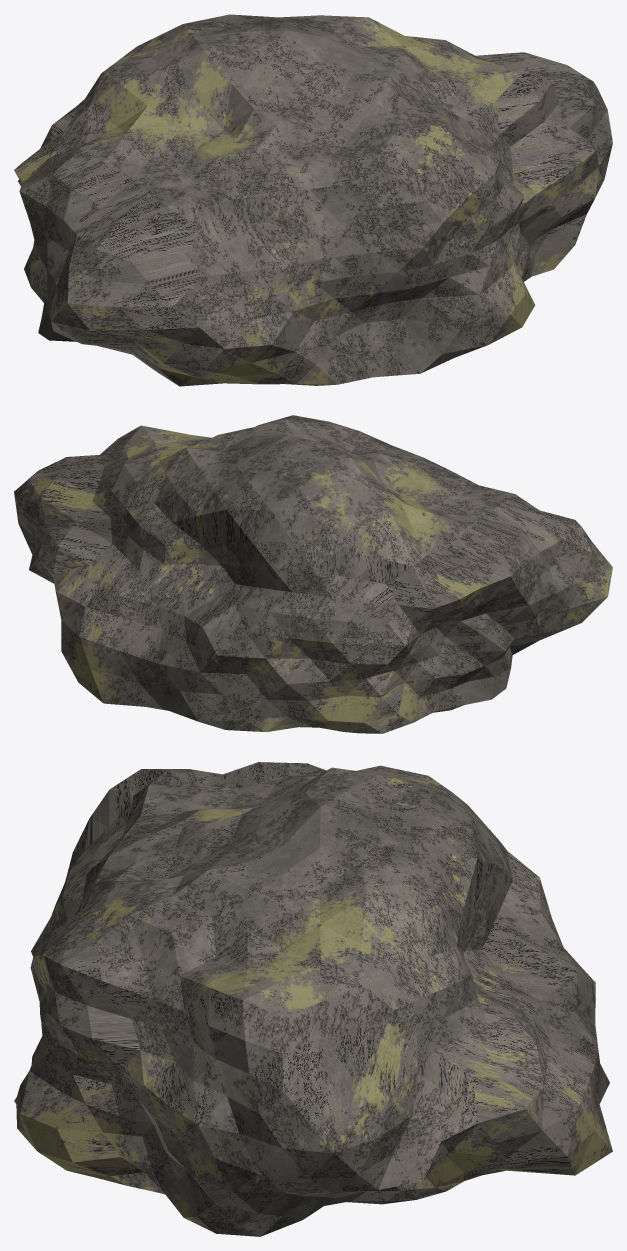
The model's file is rock_a.glb.
3 views of the same model, one above another, from view 1: azimuth 30°, elevation 25°; view 2: azimuth 150°, elevation 25°; view 3: azimuth 270°, elevation 25° (orthographic). The views are drawn at different scales.
Parts seen in each view (by area): view 1: rock_a; view 2: rock_a; view 3: rock_a.
Boxes of the visible parts, <box> form: rock_a: <box>14,14,612,386</box>; rock_a: <box>14,415,612,733</box>; rock_a: <box>14,762,612,1236</box>.
Size of the model in its own units: 3.64 by 1.49 by 2.58.
Materials: 1 (1 with a texture image).
